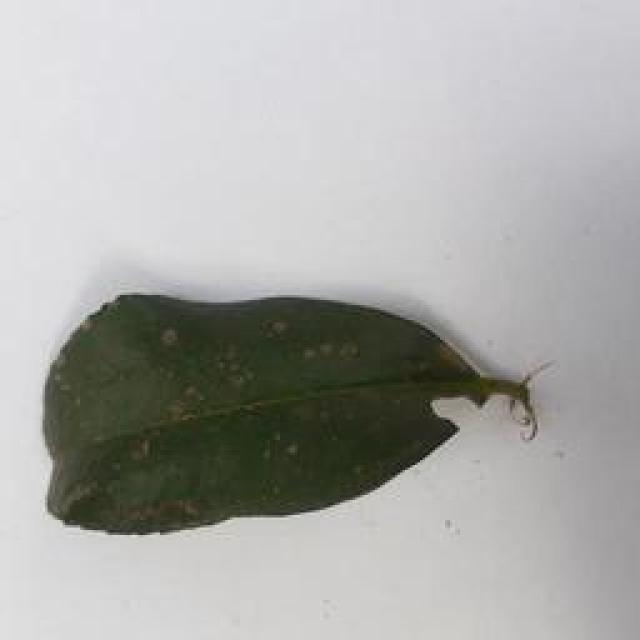Algal Leaf Spot: (33, 277, 532, 532)
